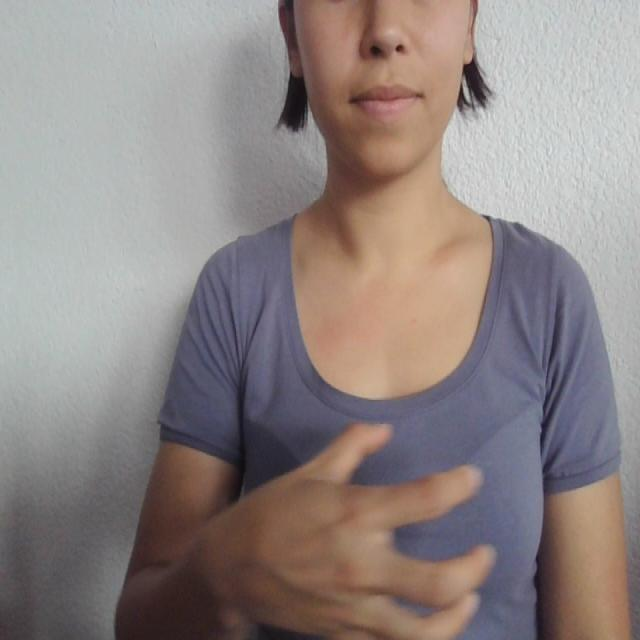Anne: (226, 408, 542, 640)
